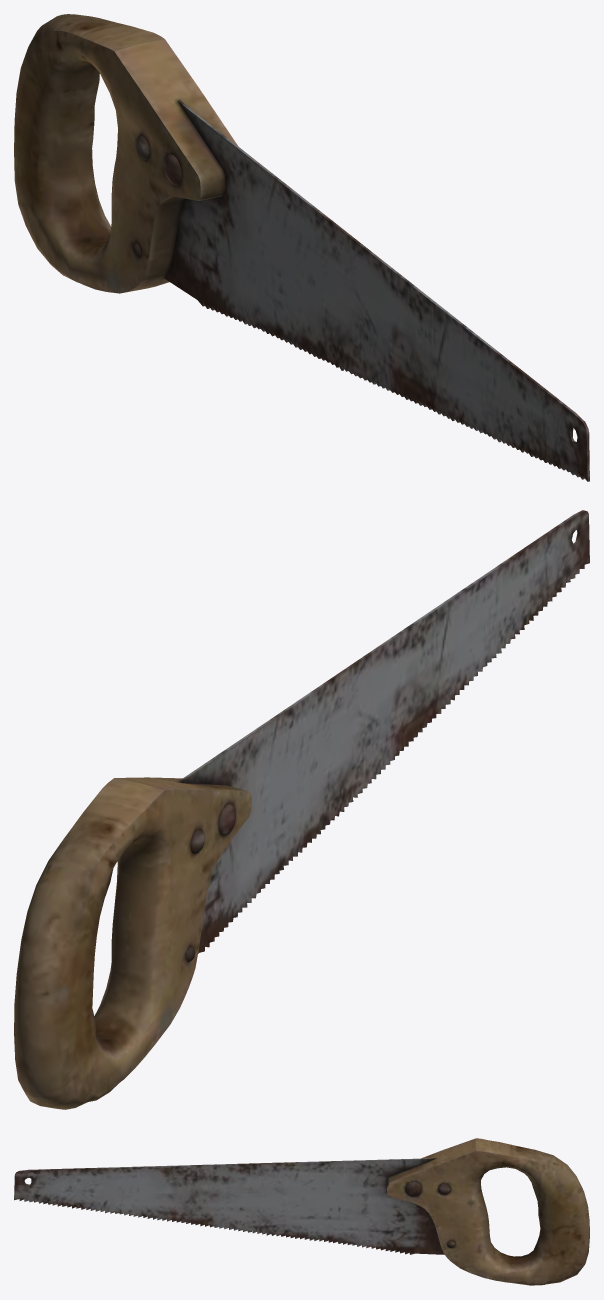
The model's file is handsaw_wood.glb.
3 views of the same model, one above another, from view 1: azimuth 30°, elevation 25°; view 2: azimuth 150°, elevation 25°; view 3: azimuth 270°, elevation 25° (orthographic). The views are drawn at different scales.
Parts seen in each view (by area): view 1: handsaw_wood; view 2: handsaw_wood; view 3: handsaw_wood.
Part boxes in pixels (x1=…): handsaw_wood: x1=14, y1=14, x2=589, y2=481; handsaw_wood: x1=14, y1=510, x2=589, y2=1109; handsaw_wood: x1=14, y1=1138, x2=589, y2=1285.
Size of the model in its own units: 0.0408 by 0.1665 by 0.633.
Materials: 1 (1 with a texture image).
